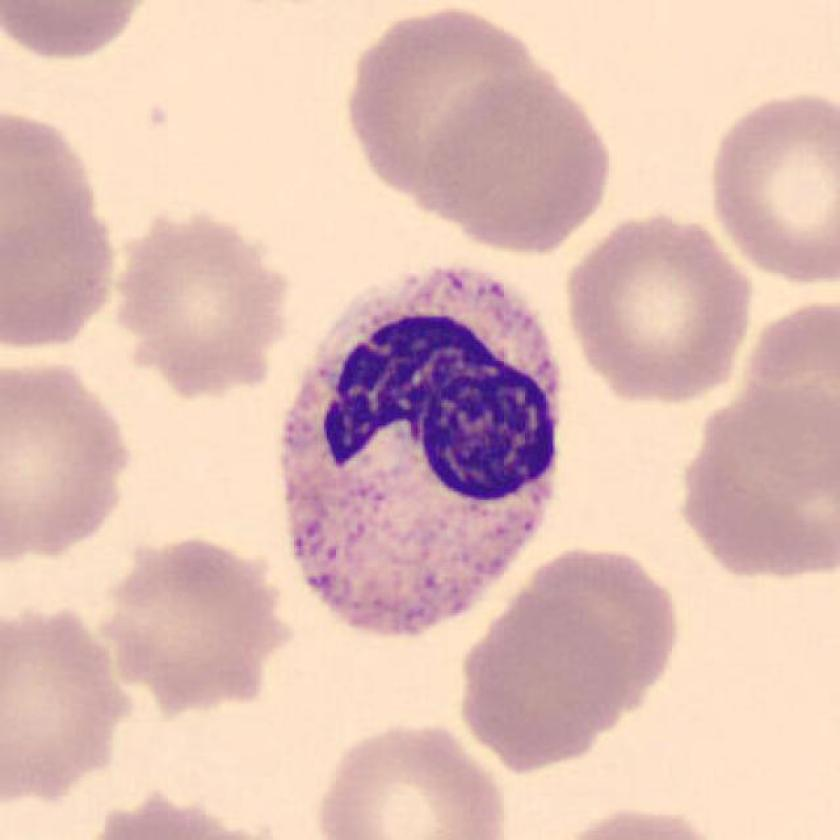neutrophil: (283, 270, 560, 632)
